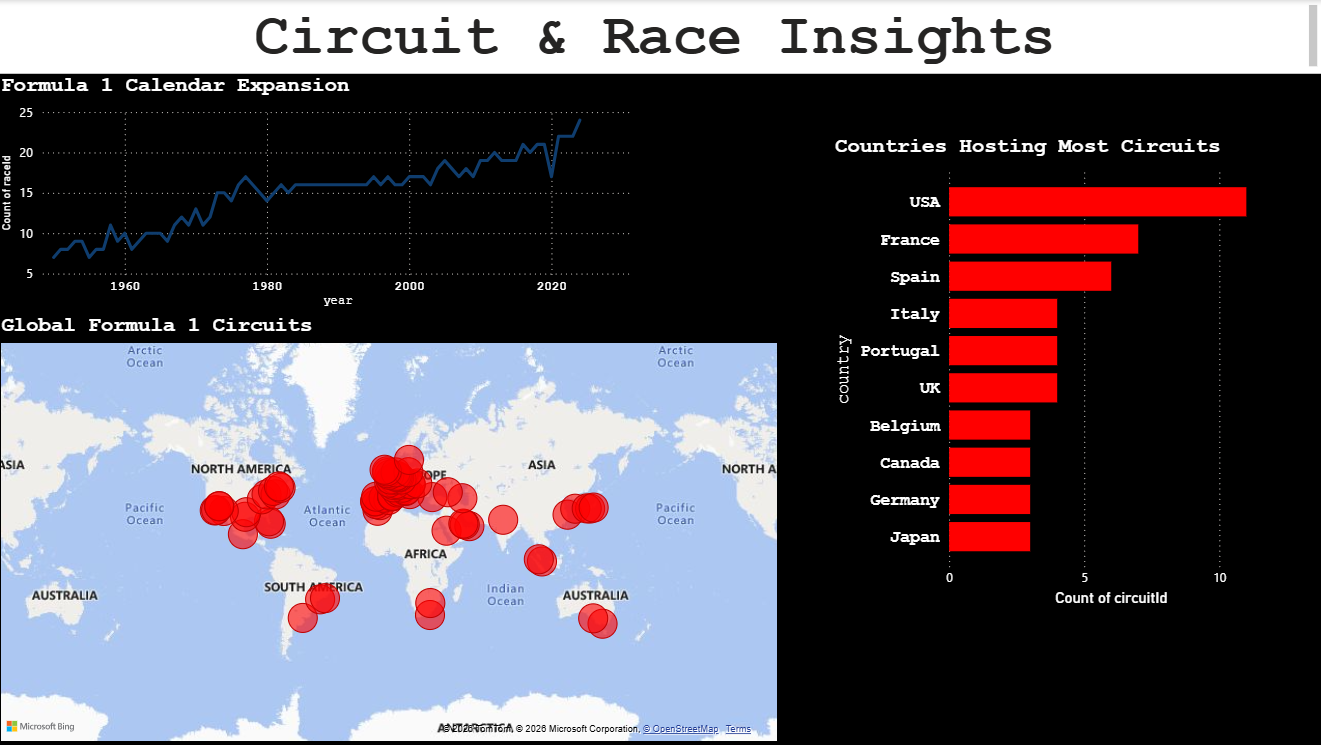

What the dashboard file says about the page in this screenshot:
{"tool":"powerbi","page":{"name":"Duplicate of Driver Analytics Dashboard","canvas":[1280,720],"ordinal":2},"visuals":[{"type":"textbox","box":[0,0,1280,71.2],"z":0},{"type":"map","title":"Global Formula 1 Circuits","fields":{"Y":["circuits.lat"],"X":["circuits.lng"],"Size":["CountNonNull(circuits.circuitId)"]},"box":[0,302.8,758.9,417.4],"z":1000},{"type":"barChart","title":"Countries Hosting Most Circuits","fields":{"Category":["circuits.country"],"Y":["CountNonNull(circuits.circuitId)"]},"box":[804.7,130.3,440.4,459.7],"z":2000},{"type":"lineChart","title":"Formula 1 Calendar Expansion","fields":{"Category":["races.year"],"Y":["CountNonNull(races.raceId)"]},"box":[0,71.2,624.9,231.6],"z":3000}]}

Visuals, with their boxes in screenshot pixels (x1, y1, x2, y2), scaled from the page's 1280x720 canvas onto the 1321x745 screenshot:
textbox: region(0, 0, 1320, 74)
"Global Formula 1 Circuits" map: region(0, 313, 783, 744)
"Countries Hosting Most Circuits" barChart: region(830, 135, 1285, 610)
"Formula 1 Calendar Expansion" lineChart: region(0, 74, 645, 313)
